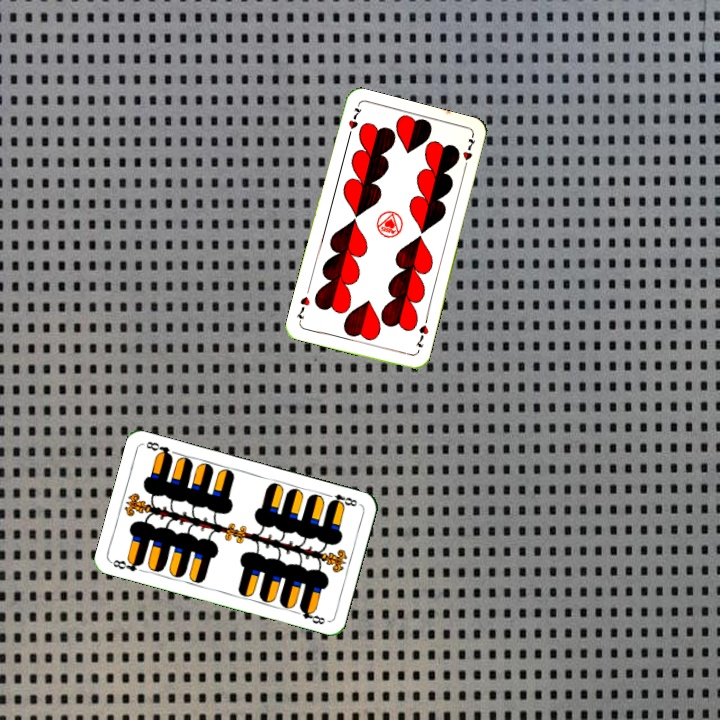E8: (322, 490, 360, 509), (108, 555, 146, 574)
H7: (344, 103, 364, 142), (411, 315, 431, 350)
